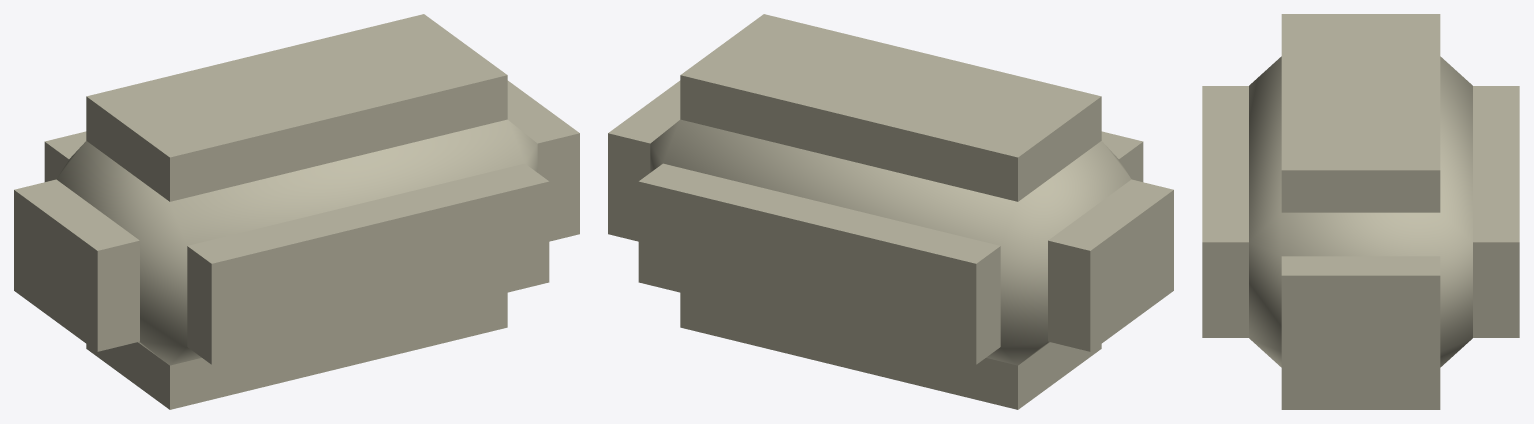
File: mkt-tissue-pack.glb
3 renders of one model, left to right at view 1: azimuth 30°, elevation 25°; view 2: azimuth 150°, elevation 25°; view 3: azimuth 270°, elevation 25°, orthographic. The views are drawn at different scales.
Parts seen in each view (by area): view 1: pack__plastic; view 2: pack__plastic; view 3: pack__plastic.
Boxes of the visible parts, <box> form: pack__plastic: <box>14,14,579,409</box>; pack__plastic: <box>608,14,1173,409</box>; pack__plastic: <box>1202,14,1519,409</box>.
Size of the model in its own units: 0.2 by 0.1 by 0.12.
